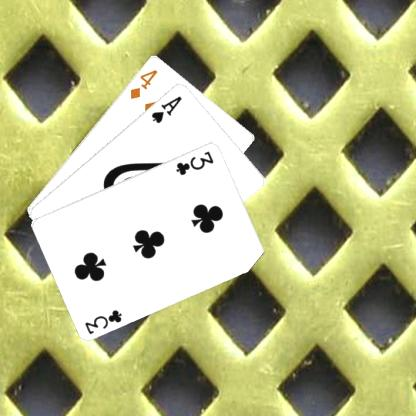3C: (82, 306, 124, 336), (173, 148, 215, 176)
4D: (127, 66, 159, 100)
AS: (148, 93, 183, 124)
